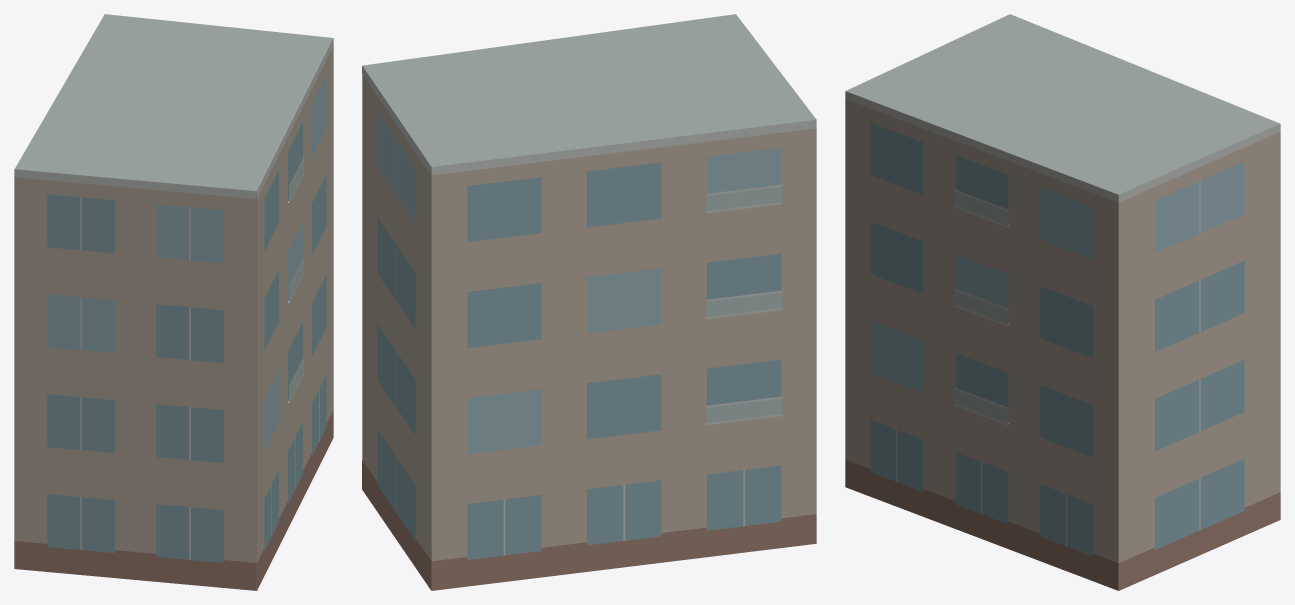
The model's file is survey-upis-32655203.glb.
The picture shows the model from 3 angles, left to right: view 1: azimuth 30°, elevation 25°; view 2: azimuth 150°, elevation 25°; view 3: azimuth 270°, elevation 25°; orthographic projection. The views are drawn at different scales.
Parts seen in each view (by area): view 1: survey-upis-32655203.tmp; view 2: survey-upis-32655203.tmp; view 3: survey-upis-32655203.tmp.
Part boxes in pixels (bbox=[...]): survey-upis-32655203.tmp: bbox=[14, 14, 333, 590]; survey-upis-32655203.tmp: bbox=[362, 14, 816, 590]; survey-upis-32655203.tmp: bbox=[845, 14, 1280, 590].
Size of the model in its own units: 11.95 by 12.2 by 12.16.
